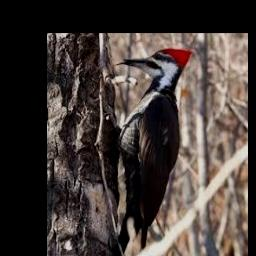Woodpecker: (114, 49, 192, 256)
